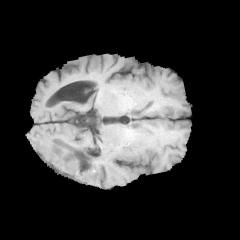glioma: (39, 137, 96, 185)
